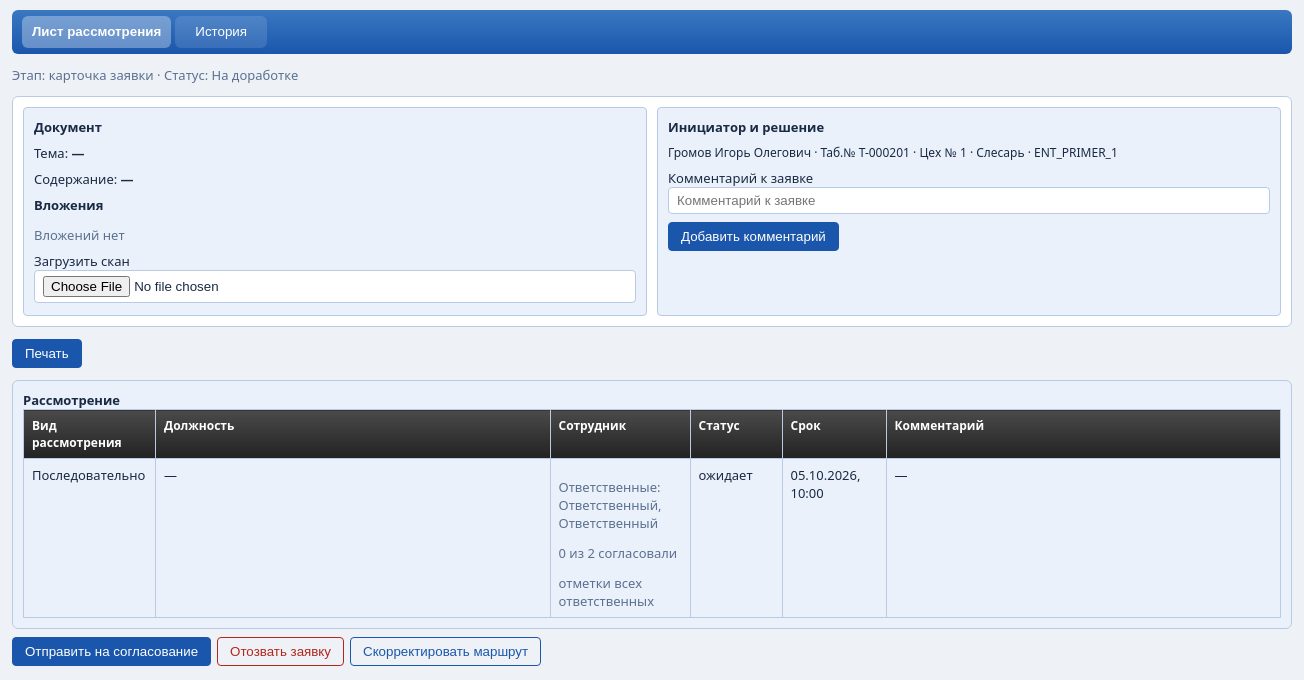
Test: RequestCard › скорректировать маршрут: шаг с несколькими ответственными блокирует правку
Click the button "Скорректировать маршрут" at x=446, y=652, box [350,637,541,666]
(page scrolled)
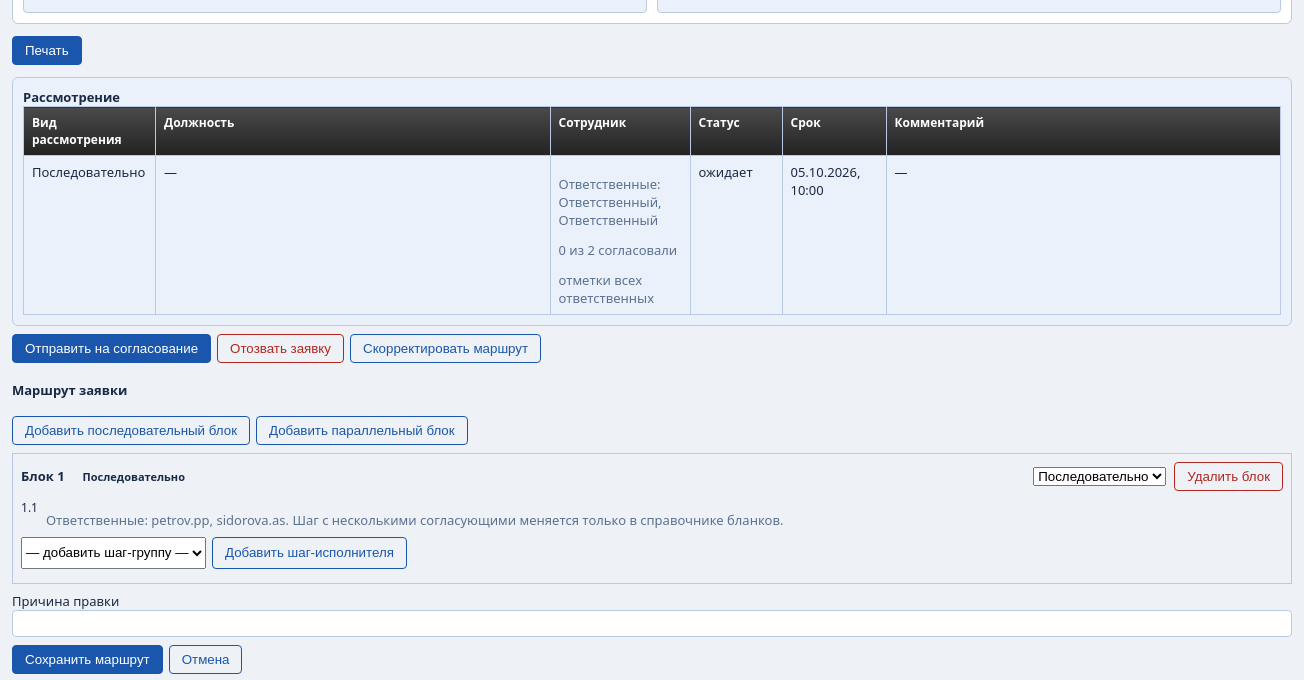
expect the text "Ответственные: petrov.pp, sidorova.as" is shown: met, box [46,511,783,529]
Click the button "Сохранить маршрут" at x=87, y=660, box [12,645,163,674]
(page scrolled)
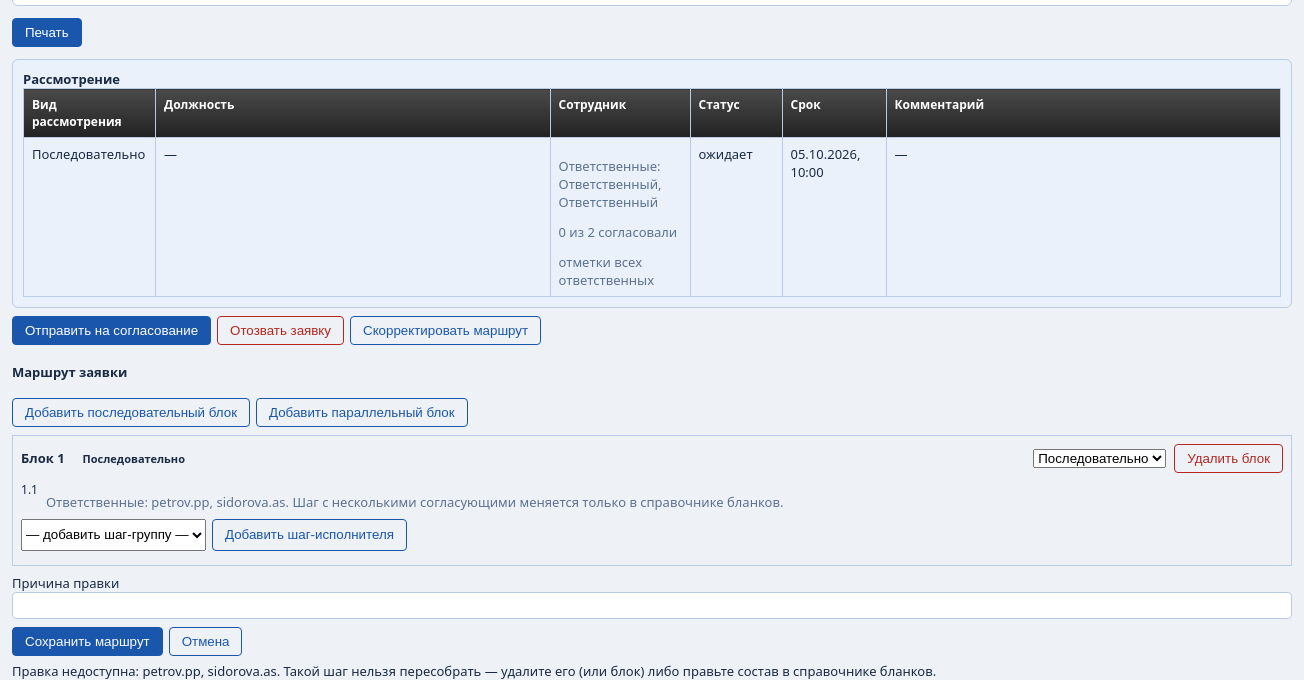
expect the message shows "Правка недоступна: petrov.pp, sidorova.as": met, box [12,662,936,679]
